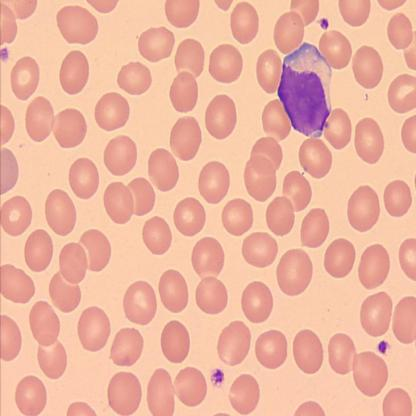Atypical lymphocyte: (277, 40, 335, 138)
